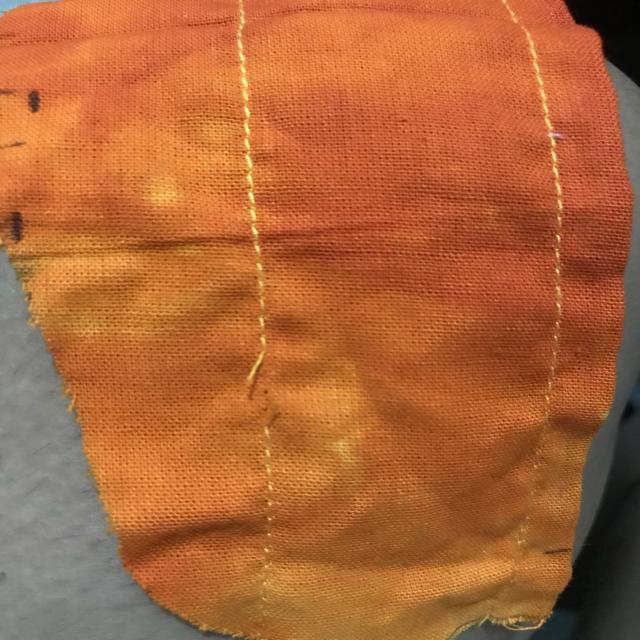broken: (212, 328, 326, 435)
good: (215, 125, 292, 282)
